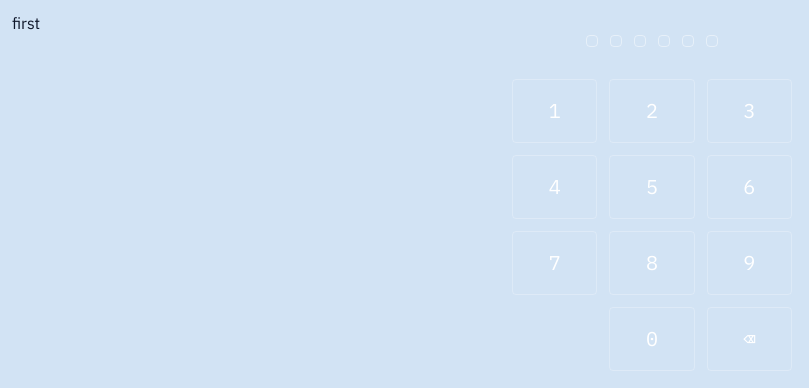
Test: PinPad › actually reaches the confirmation step instead of self-confirming
What coordinates should you click on to do the following:
click the button "1"
I would click on:
 (555, 111)
Its box is [512,79,597,143].
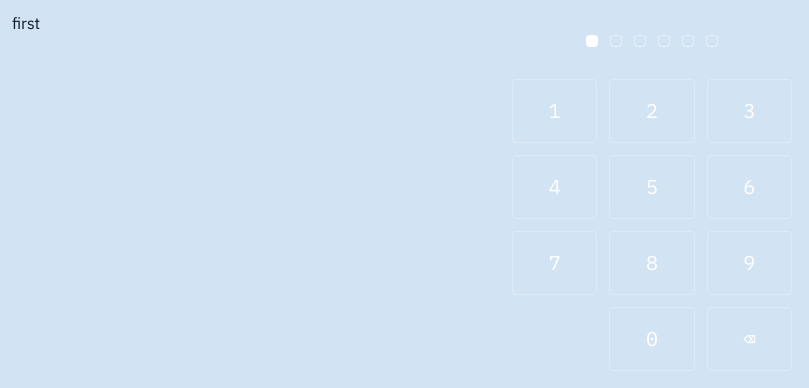
What coordinates should you click on to do the following:
click the button "2"
I would click on:
 (652, 111)
Its box is [609,79,695,143].
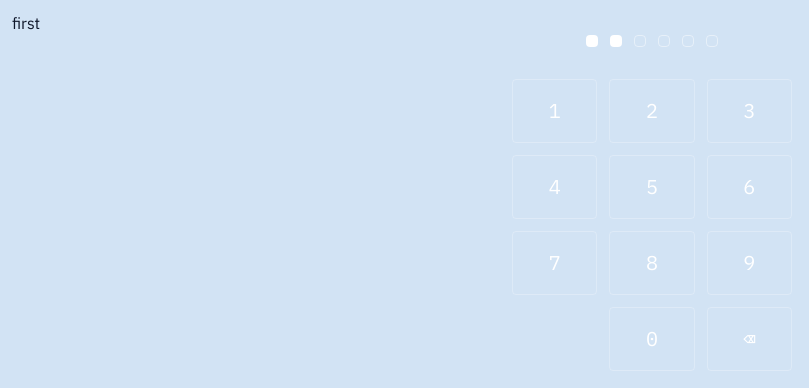
What coordinates should you click on to do the following:
click the button "3"
I would click on:
 (749, 111)
Its box is [707,79,792,143].
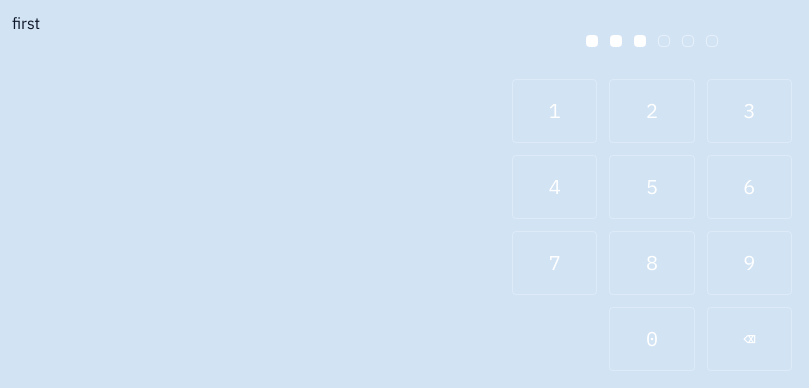
What coordinates should you click on to do the following:
click the button "4"
I would click on:
 (555, 187)
Its box is [512,155,597,219].
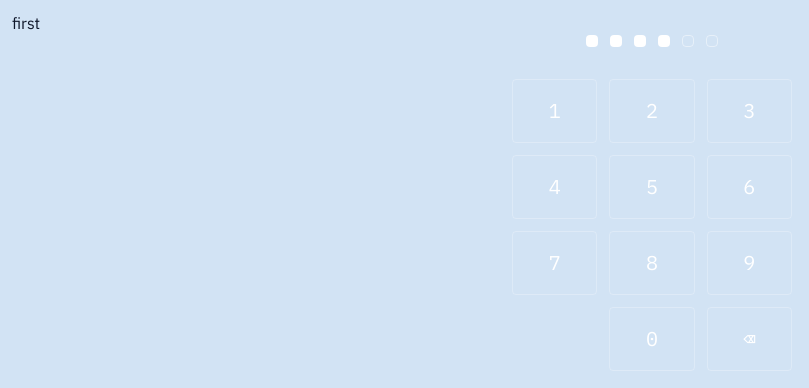
What coordinates should you click on to do the following:
click the button "5"
I would click on:
 (652, 187)
Its box is [609,155,695,219].
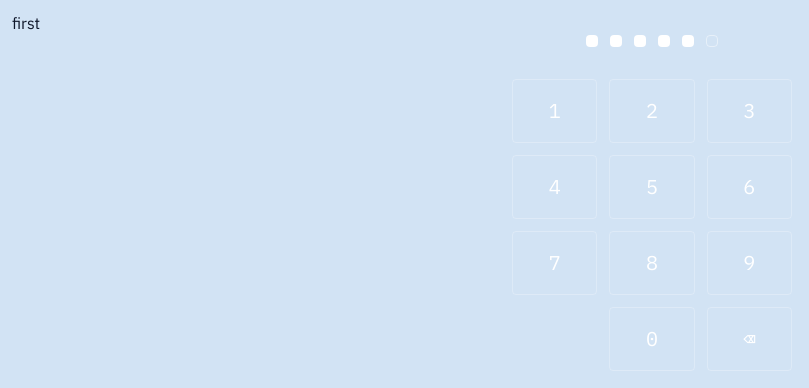
What coordinates should you click on to do the following:
click the button "6"
I would click on:
 (749, 187)
Its box is [707,155,792,219].
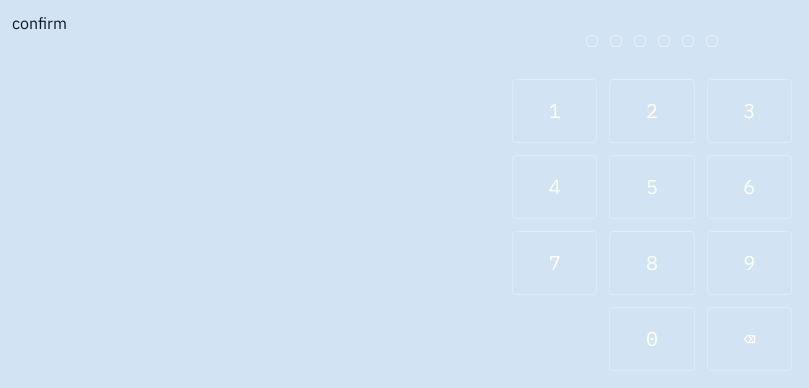
Expected: the text with test id "step" reads "confirm", [12,13,67,33]
